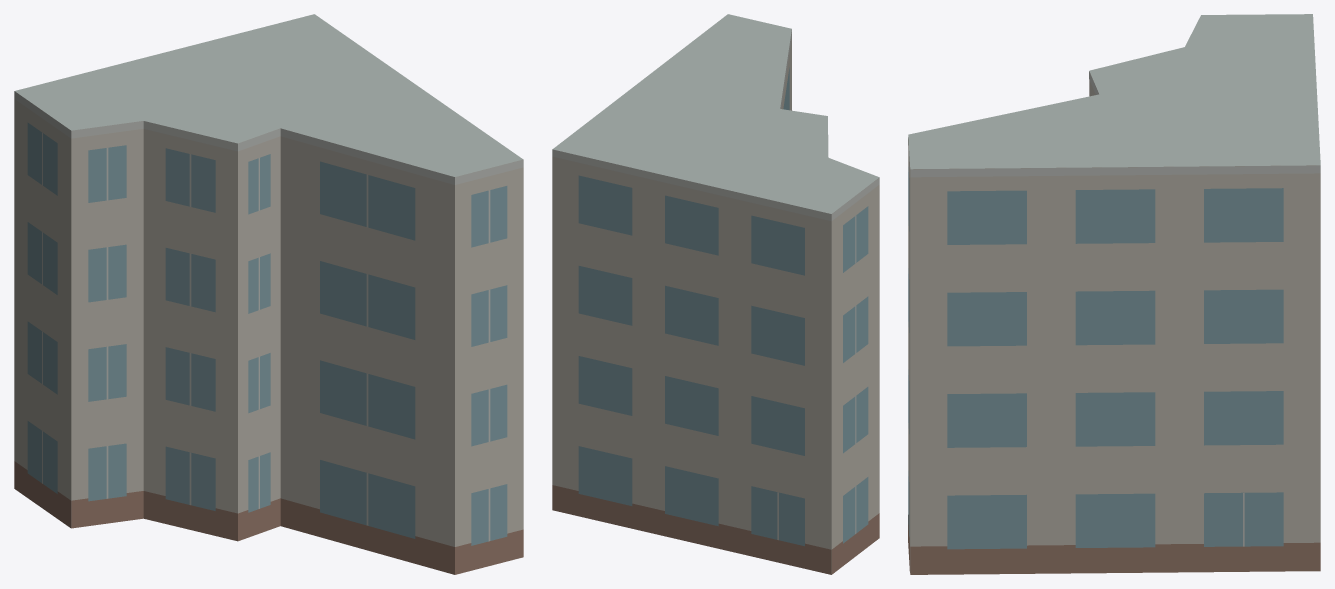
Rendered from residential-c6745376-c55b-4ab3-b3f6-b0c7a99e8c94.glb.
The picture shows the model from 3 angles, left to right: view 1: azimuth 30°, elevation 25°; view 2: azimuth 150°, elevation 25°; view 3: azimuth 270°, elevation 25°; orthographic projection. The views are drawn at different scales.
Visible parts, largest first — view 1: residential-c6745376-c55b-4ab3-b3f6-b0c7a99e8c94.tmp; view 2: residential-c6745376-c55b-4ab3-b3f6-b0c7a99e8c94.tmp; view 3: residential-c6745376-c55b-4ab3-b3f6-b0c7a99e8c94.tmp.
Boxes of the visible parts, <box> form: residential-c6745376-c55b-4ab3-b3f6-b0c7a99e8c94.tmp: <box>14,14,523,574</box>; residential-c6745376-c55b-4ab3-b3f6-b0c7a99e8c94.tmp: <box>552,14,879,574</box>; residential-c6745376-c55b-4ab3-b3f6-b0c7a99e8c94.tmp: <box>908,14,1320,574</box>.
Bounding box in the file's own units: 10.01 × 12.2 × 11.26.
